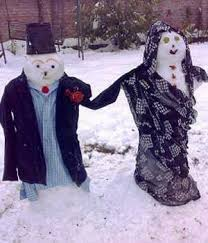person-like: (1, 20, 95, 200), (117, 20, 202, 207)
